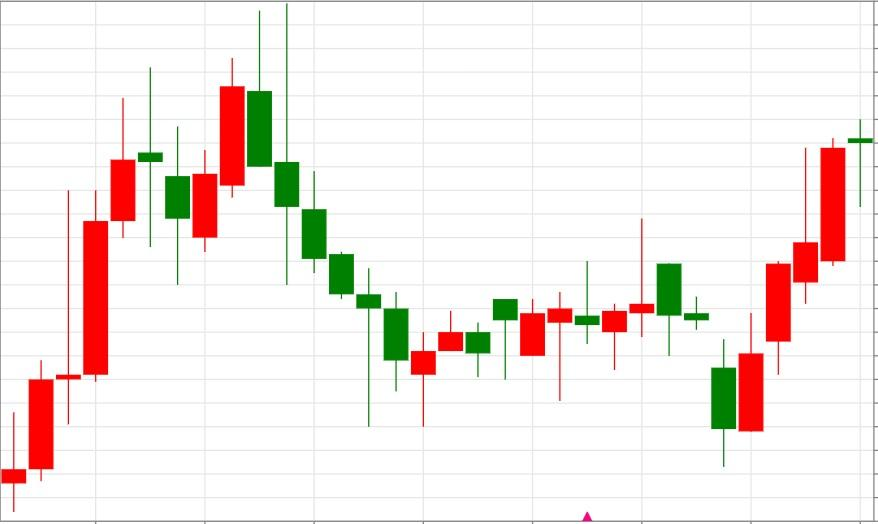three_black_crows_fall: (164, 3, 328, 286)
three_white_soldiers_rise: (656, 148, 819, 467)
